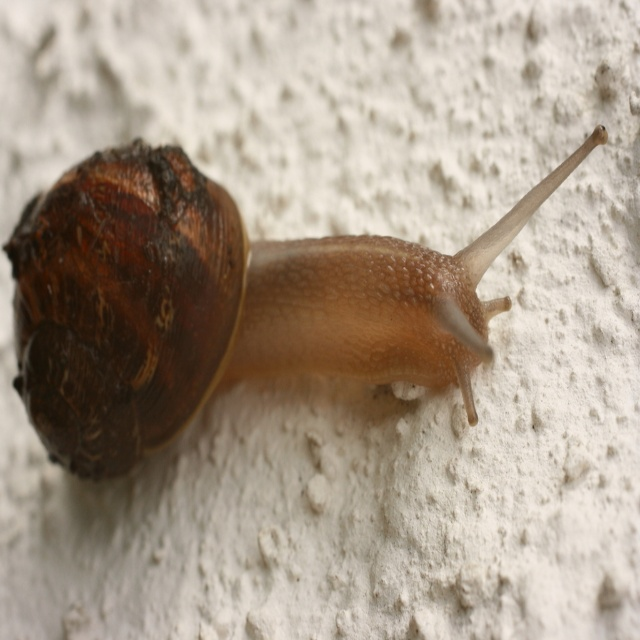Snail: (1, 125, 609, 483)
